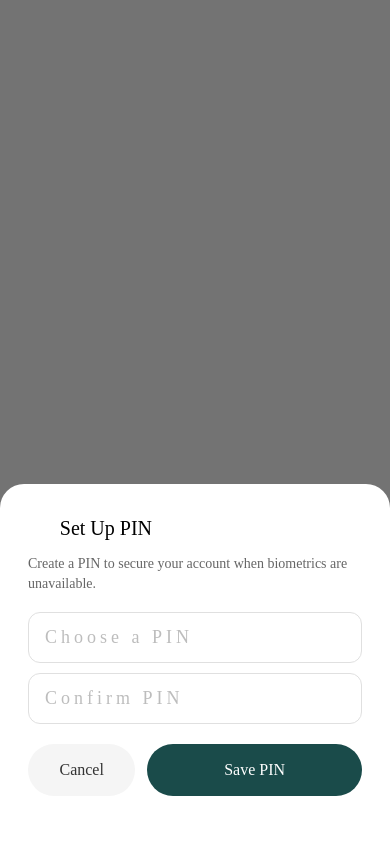
it: PinFallbackModal (setup mode) › shows error when PINs do not match
Type "1234" into the password field with test id "pin-input" at (195, 638), box [28,612,362,663]
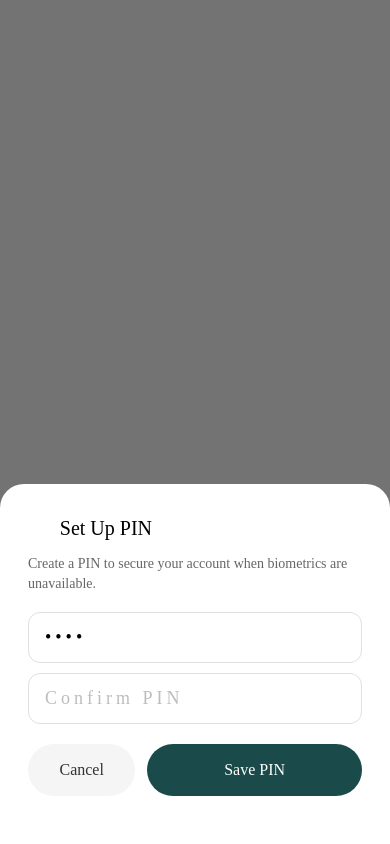
Type "5678" into the password field with test id "pin-confirm-input" at (195, 698), box [28,673,362,724]
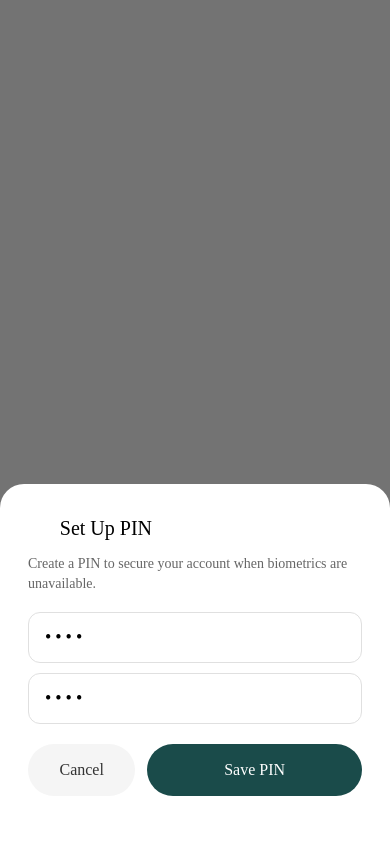
Click the button with test id "pin-submit-button" at (255, 770), box [147,744,362,796]
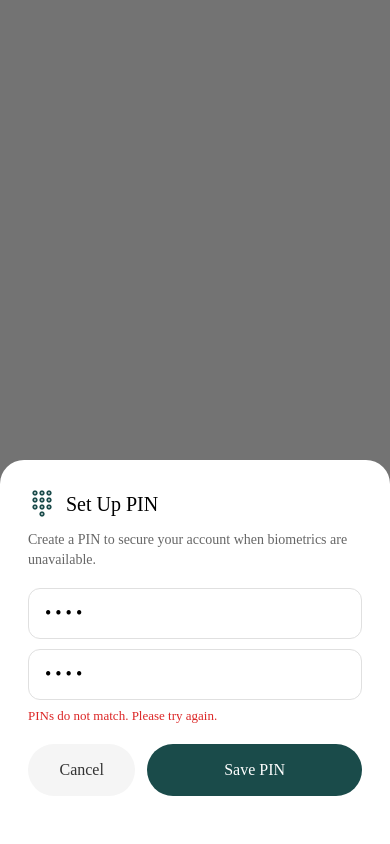
Result: the text "PINs do not match. Please try again." is shown at [28,708,217,723]
